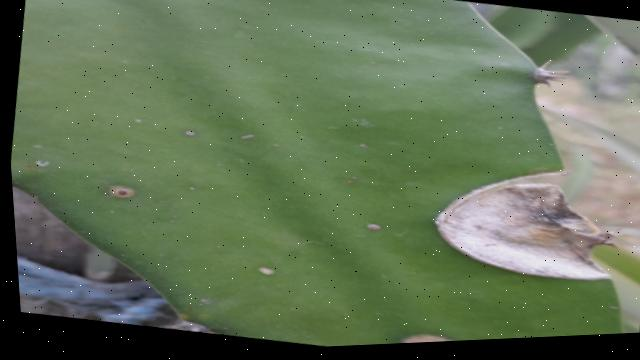stemcanker: (102, 182, 138, 201), (251, 263, 280, 280), (361, 220, 389, 235), (31, 155, 54, 172), (234, 130, 258, 143), (180, 128, 200, 140)
